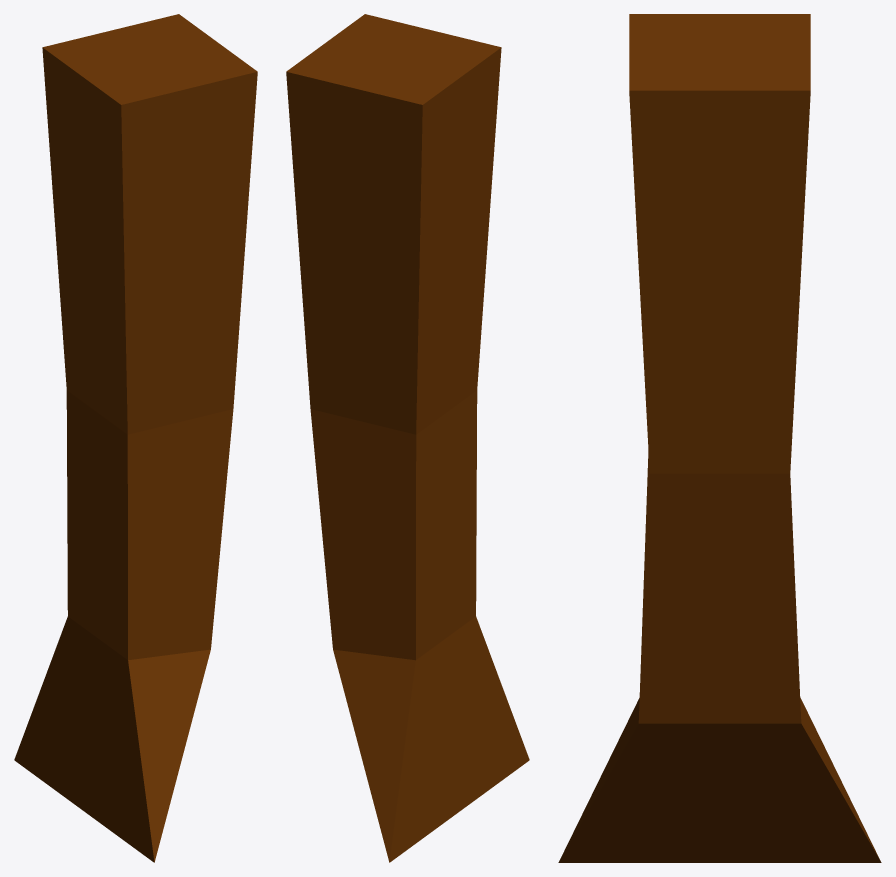
Rendered from TreeLog.fbx.
The picture shows the model from 3 angles, left to right: view 1: azimuth 30°, elevation 25°; view 2: azimuth 150°, elevation 25°; view 3: azimuth 270°, elevation 25°; orthographic projection. The views are drawn at different scales.
Visible parts, largest first — view 1: Cube; view 2: Cube; view 3: Cube.
Boxes of the visible parts, x1,y1,x2,y2 form: Cube: (14,14,257,862); Cube: (286,14,529,862); Cube: (558,14,881,862).
Size of the model in its own units: 34.6 by 178 by 61.59.
